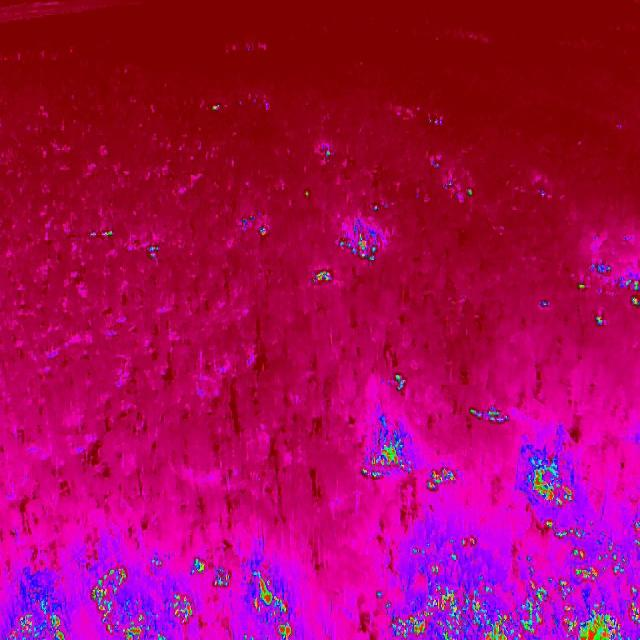fire: (375, 536, 640, 639), (0, 569, 201, 640), (351, 426, 458, 506), (194, 555, 294, 640), (510, 441, 586, 539), (569, 265, 640, 331), (312, 235, 387, 285), (89, 225, 161, 265), (459, 395, 514, 433), (392, 372, 409, 396), (208, 101, 228, 118)
